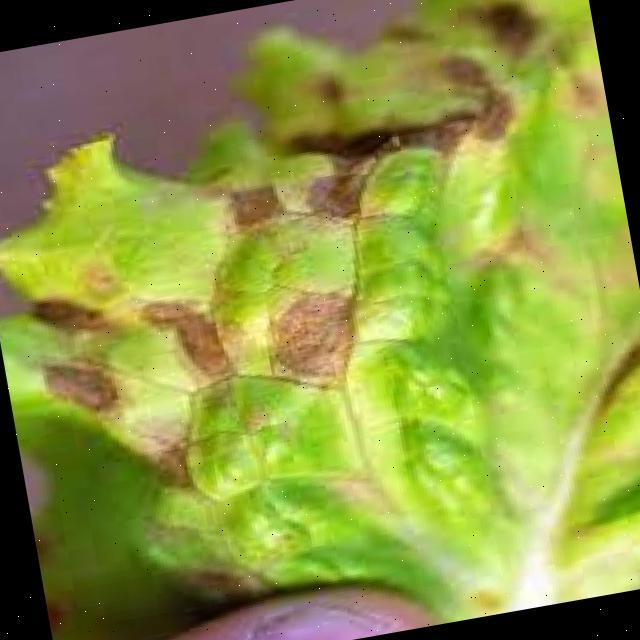Septoria_Blight: (2, 54, 630, 610)
